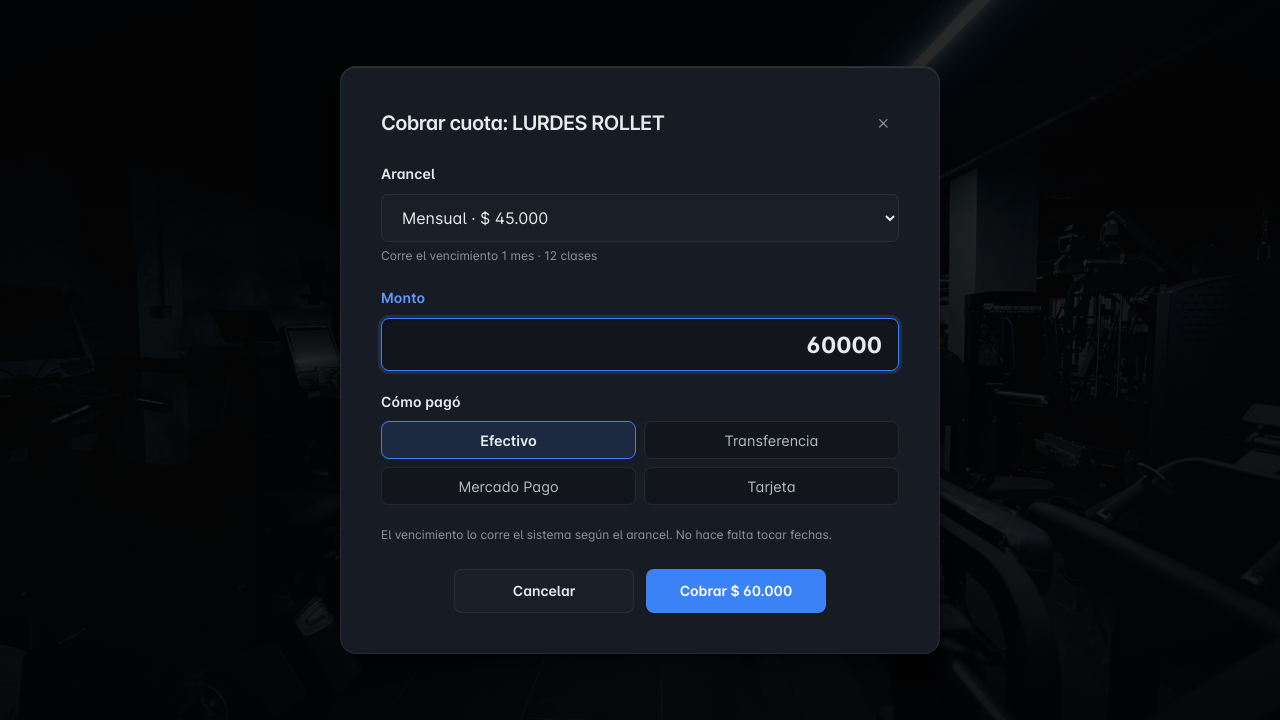
it: cobrar la cuota desde Socios › cambiar el arancel cambia el monto
Select "Mensual · $ 45.000" in the dropdown at (640, 218), box [381, 194, 899, 242]
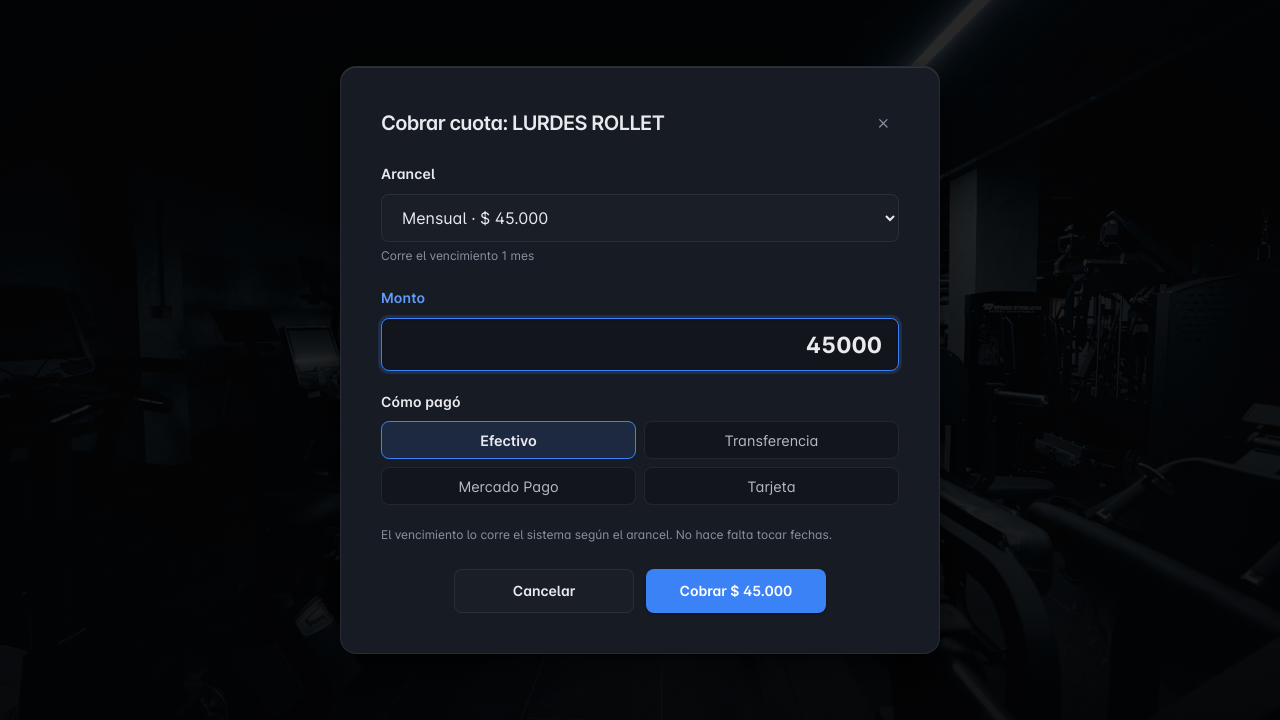
Result: the number field holds "45000" at [381, 318, 899, 371]
